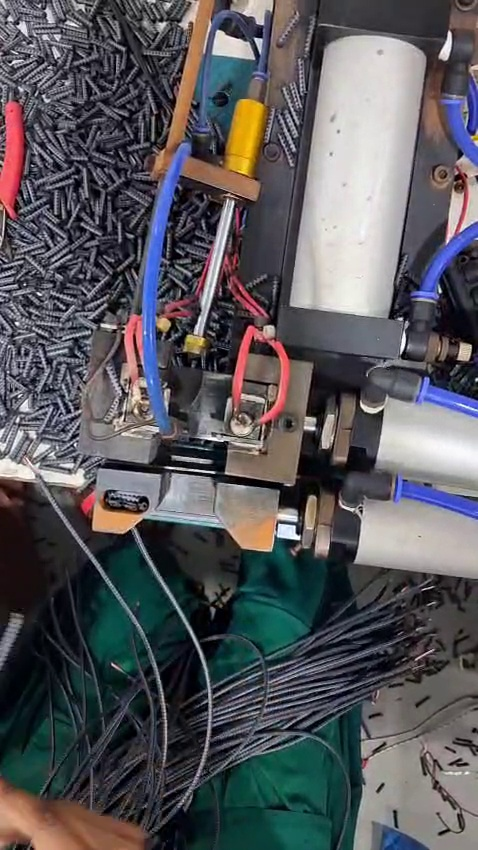machine: (73, 308, 332, 580)
